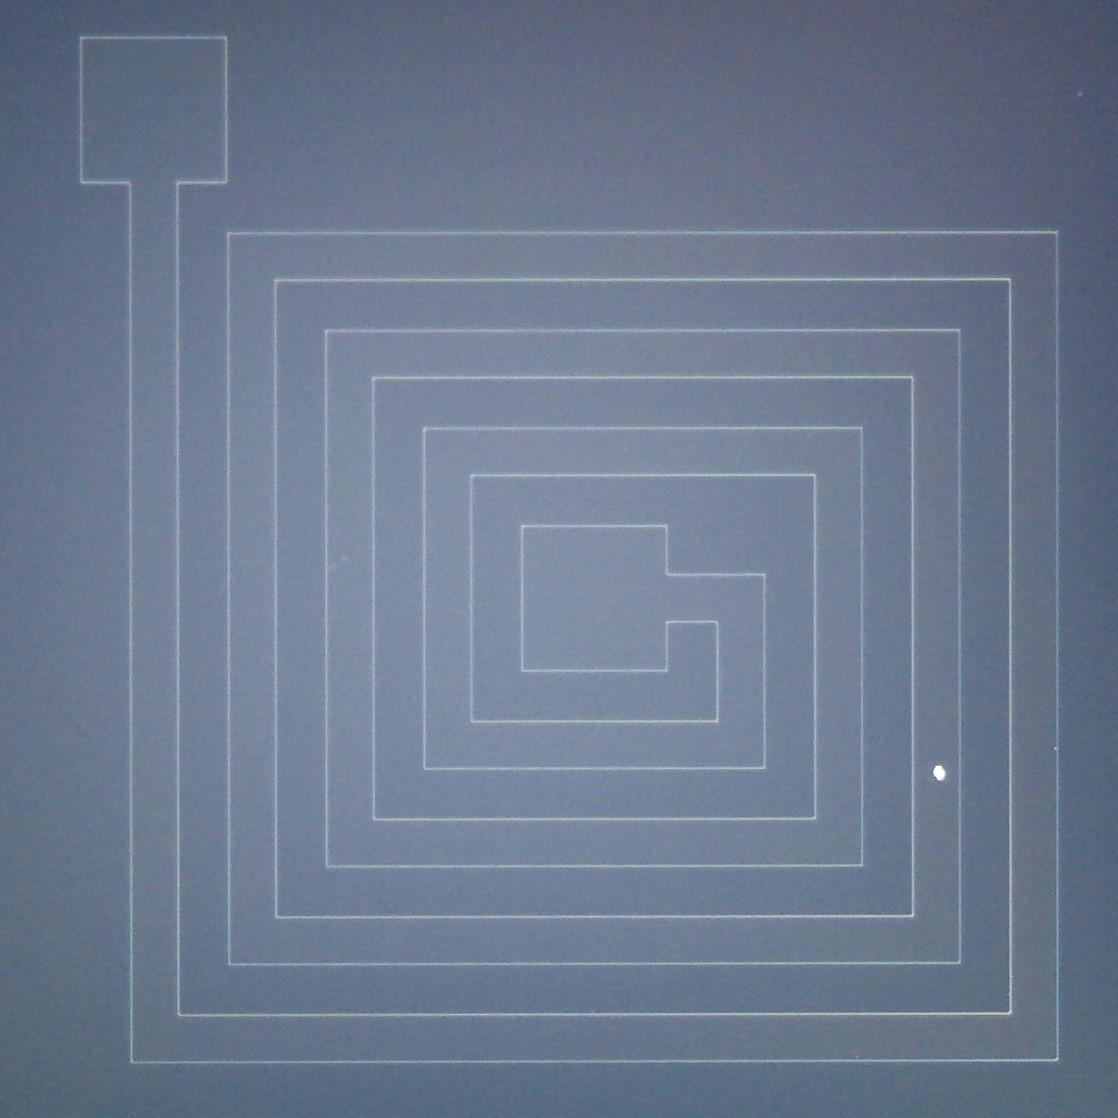B_point: (930, 765, 948, 782)
s_point: (337, 550, 353, 566), (1050, 743, 1061, 754), (1075, 89, 1084, 99)
